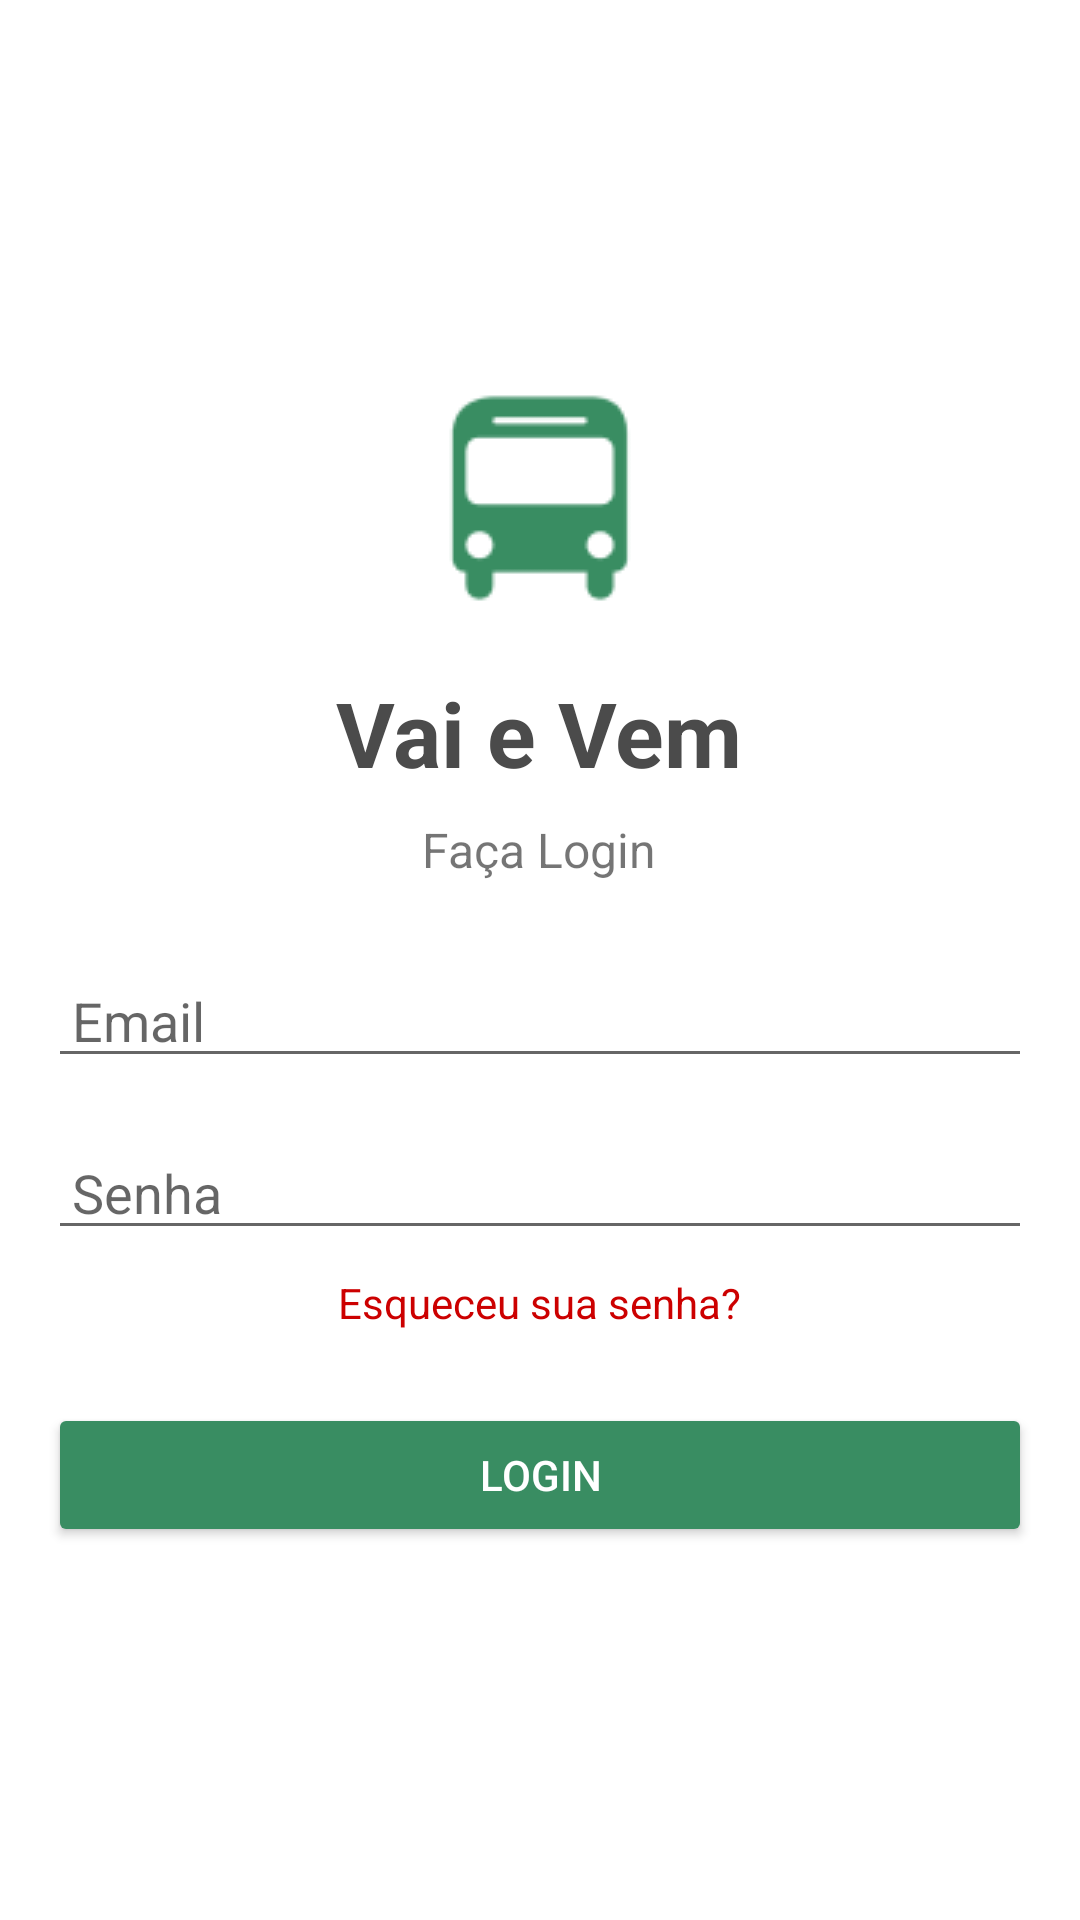

Icon bounding boxes for this 1080 x 1920 phone screenshot, format (x1, y1, x2, y2):
Ícone de ônibus: (451, 395, 628, 601)
